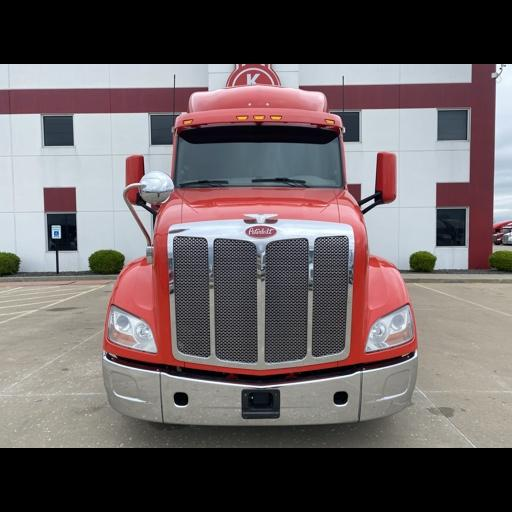truck: (98, 84, 422, 425)
